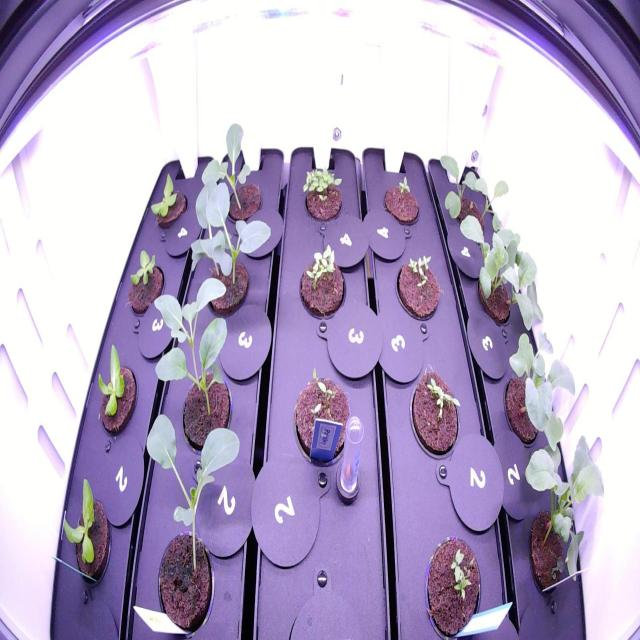germination: (287, 362, 357, 479), (417, 526, 489, 638), (402, 361, 466, 468), (291, 238, 351, 330), (390, 245, 445, 329), (293, 160, 347, 232), (375, 171, 423, 231)
young: (56, 474, 123, 600), (86, 336, 141, 444), (122, 243, 168, 324), (146, 167, 192, 234)
